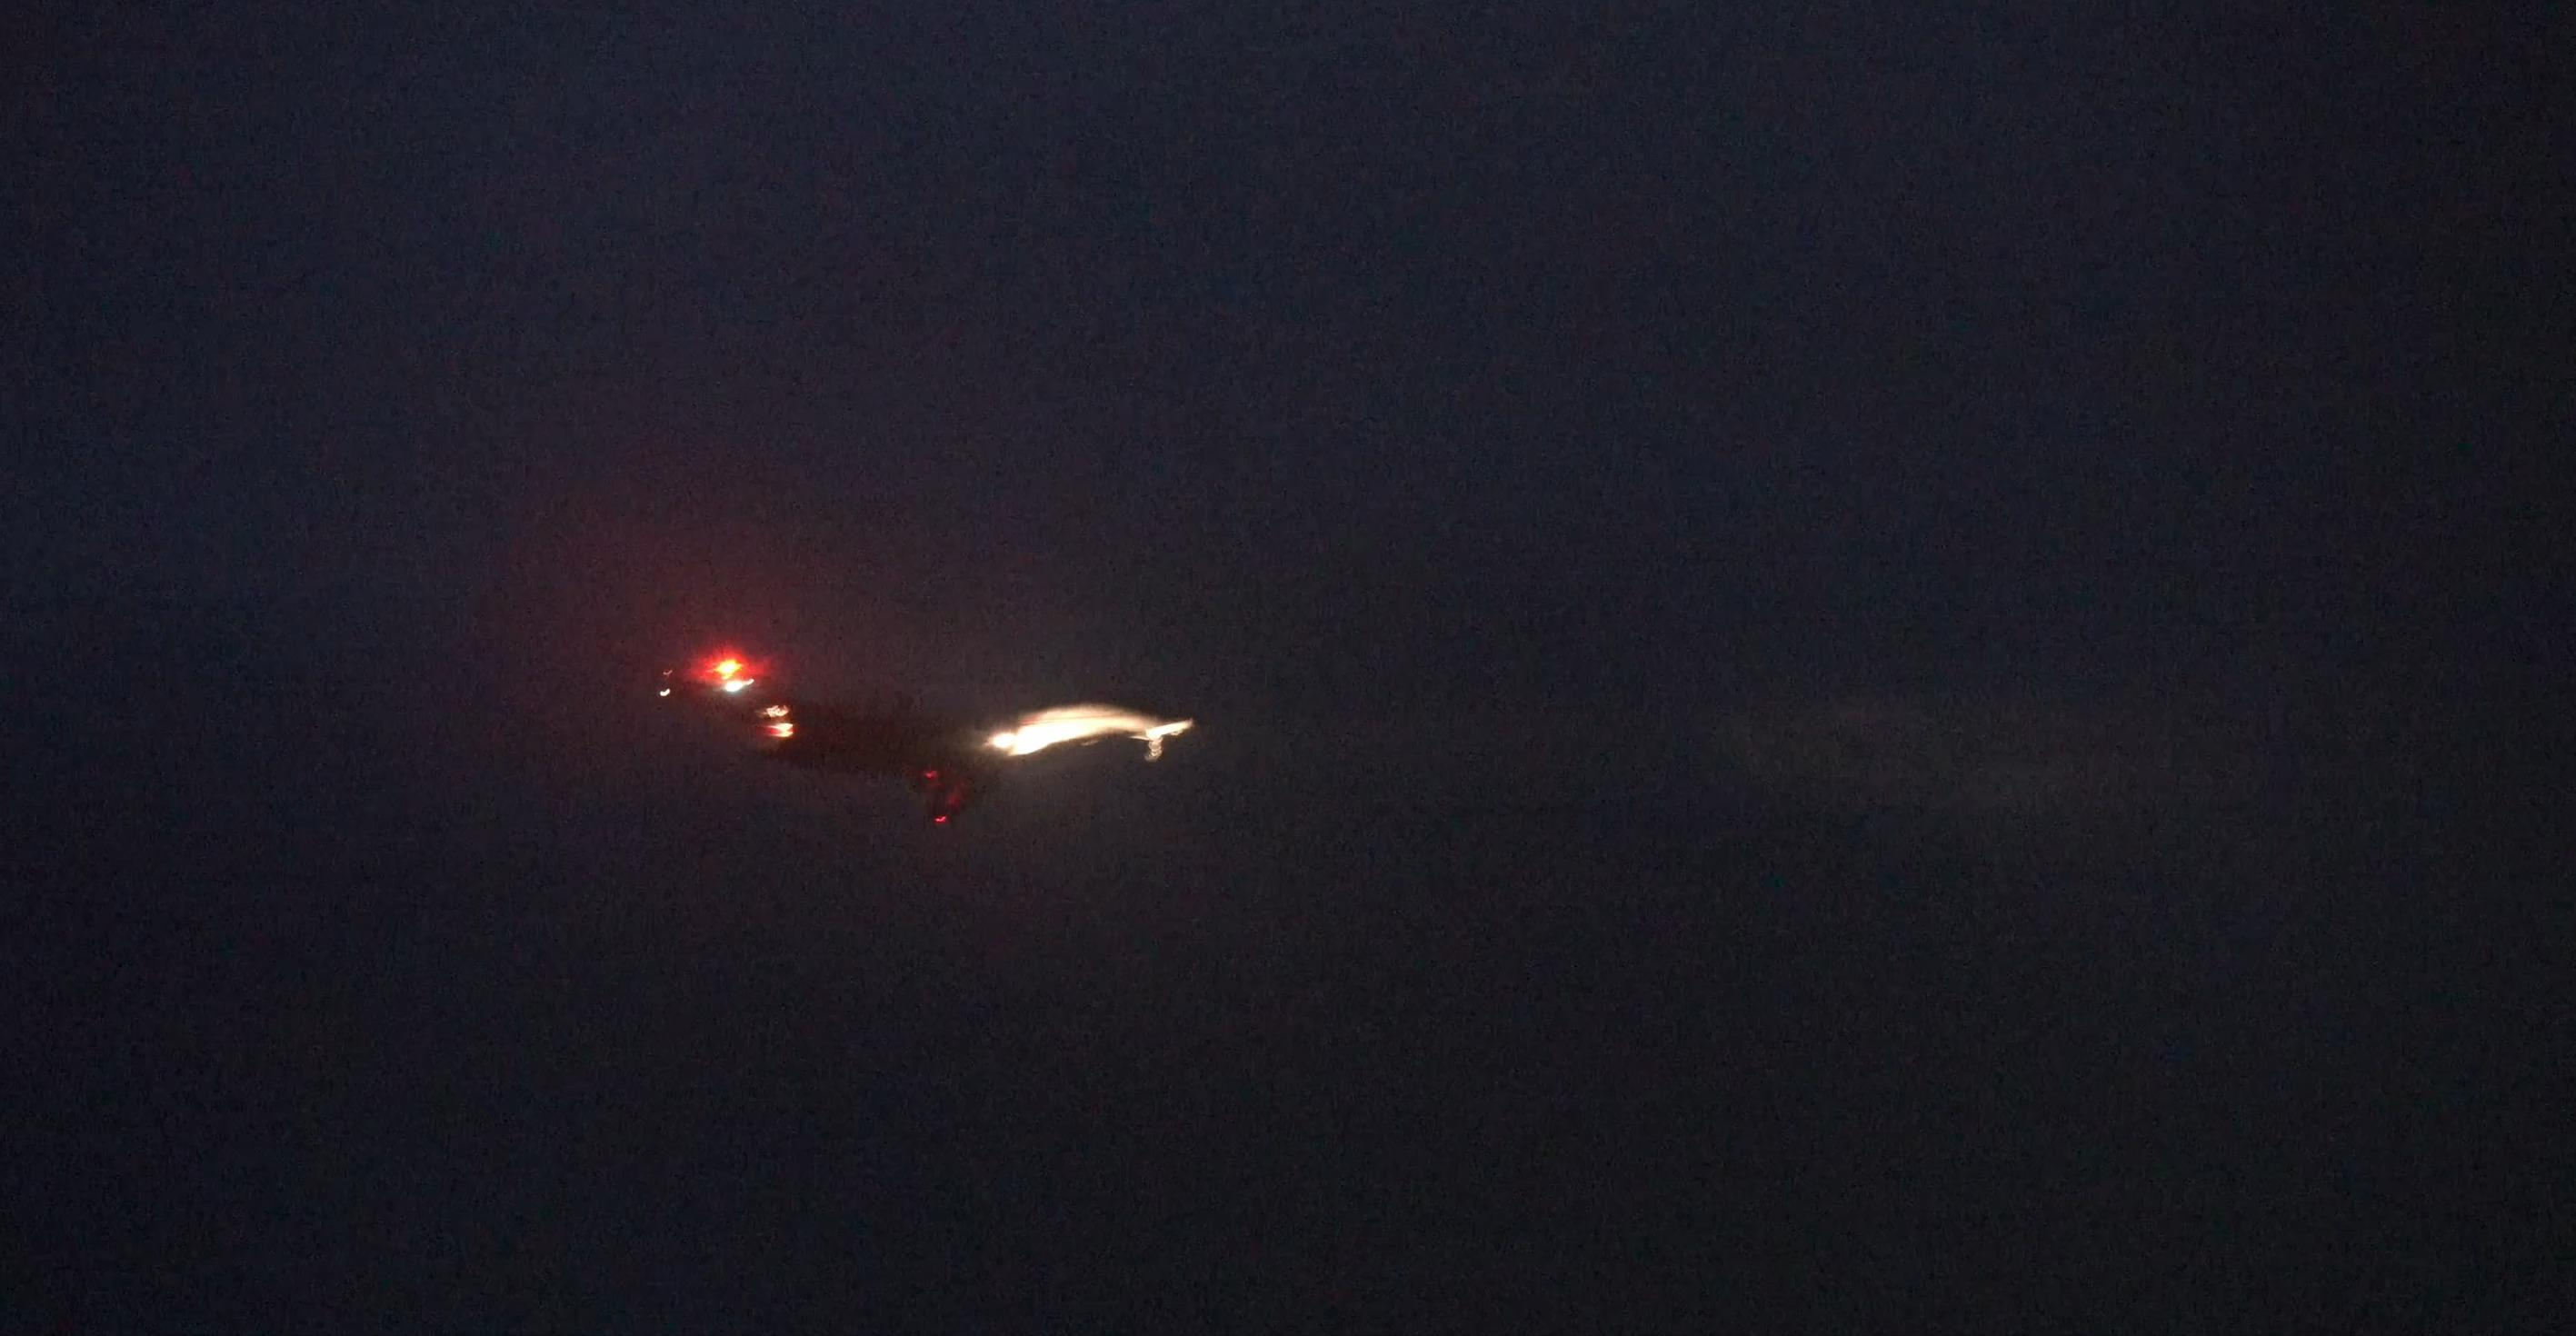Plane: (670, 642, 1210, 837)
